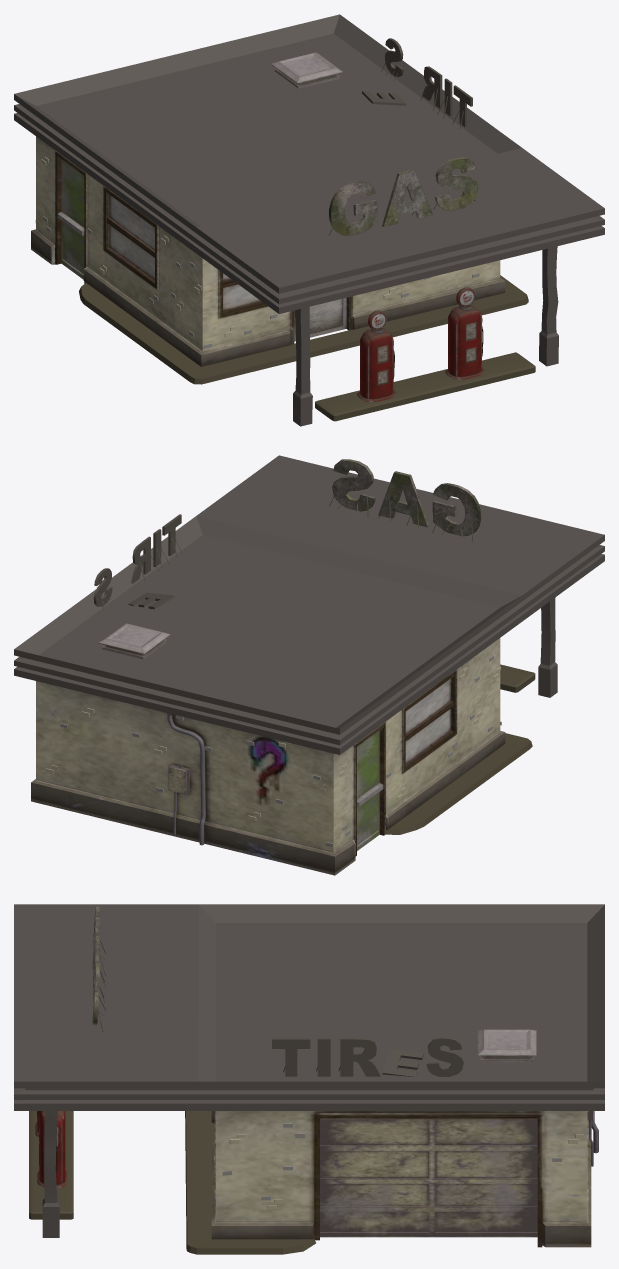
File: roadside-gas.lod0.glb
3 renders of one model, top to bottom at view 1: azimuth 30°, elevation 25°; view 2: azimuth 150°, elevation 25°; view 3: azimuth 270°, elevation 25°, orthographic. The views are drawn at different scales.
Visible parts, largest first — view 1: Brick_A:Brick_Single_Geo_Single_Brick_0, Gas_Station_Model:Gas_Station_Body_main_shader_0, Gas_Station_Model:polySurface3_Building_Extra_Shader_0, GAS_Sign:Supports_GAS_SIgn_0, Gas_Pump:Body_Geo_Pump_Main_Shader_0, Gas_Pump:Pump_Top_Sign_Geo_pump_misc_shader_0; view 2: Brick_A:Brick_Single_Geo_Single_Brick_0, Gas_Station_Model:Gas_Station_Body_main_shader_0, Gas_Station_Model:polySurface3_Building_Extra_Shader_0, GAS_Sign:Supports_GAS_SIgn_0; view 3: Brick_A:Brick_Single_Geo_Single_Brick_0, Gas_Station_Model:polySurface3_Building_Extra_Shader_0, Gas_Station_Model:Gas_Station_Body_main_shader_0, Gas_Pump:Body_Geo_Pump_Main_Shader_0, GAS_Sign:Supports_GAS_SIgn_0.
Boxes of the visible parts, x1,y1,x2,y2 form: Brick_A:Brick_Single_Geo_Single_Brick_0: (14, 14, 604, 426); Gas_Station_Model:Gas_Station_Body_main_shader_0: (31, 136, 505, 366); Gas_Station_Model:polySurface3_Building_Extra_Shader_0: (57, 52, 346, 341); GAS_Sign:Supports_GAS_SIgn_0: (329, 157, 478, 235); Gas_Pump:Body_Geo_Pump_Main_Shader_0: (357, 305, 484, 402); Gas_Pump:Pump_Top_Sign_Geo_pump_misc_shader_0: (368, 287, 483, 378); Brick_A:Brick_Single_Geo_Single_Brick_0: (14, 455, 604, 847); Gas_Station_Model:Gas_Station_Body_main_shader_0: (31, 638, 505, 875); Gas_Station_Model:polySurface3_Building_Extra_Shader_0: (98, 623, 383, 850); GAS_Sign:Supports_GAS_SIgn_0: (329, 459, 481, 542); Brick_A:Brick_Single_Geo_Single_Brick_0: (14, 904, 604, 1254); Gas_Station_Model:polySurface3_Building_Extra_Shader_0: (320, 1029, 598, 1237); Gas_Station_Model:Gas_Station_Body_main_shader_0: (211, 1111, 591, 1247); Gas_Pump:Body_Geo_Pump_Main_Shader_0: (35, 1111, 66, 1187); GAS_Sign:Supports_GAS_SIgn_0: (92, 906, 105, 1032).
Bounding box in the file's own units: 12.84 × 7.47 × 17.41.
6 materials, 5 textured.
